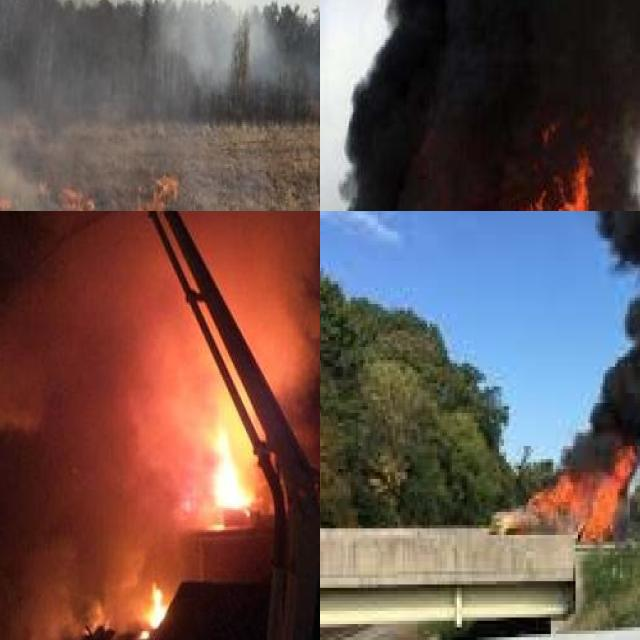fire: (320, 139, 640, 211), (506, 439, 640, 544), (207, 421, 251, 518), (141, 575, 168, 634)
smoke: (0, 211, 316, 640), (344, 0, 640, 211), (555, 211, 640, 472), (156, 0, 283, 93)
